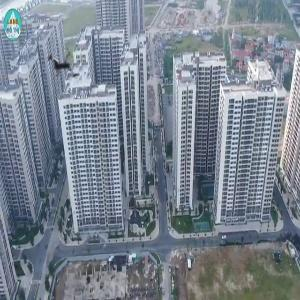drone: (30, 30, 101, 101)
